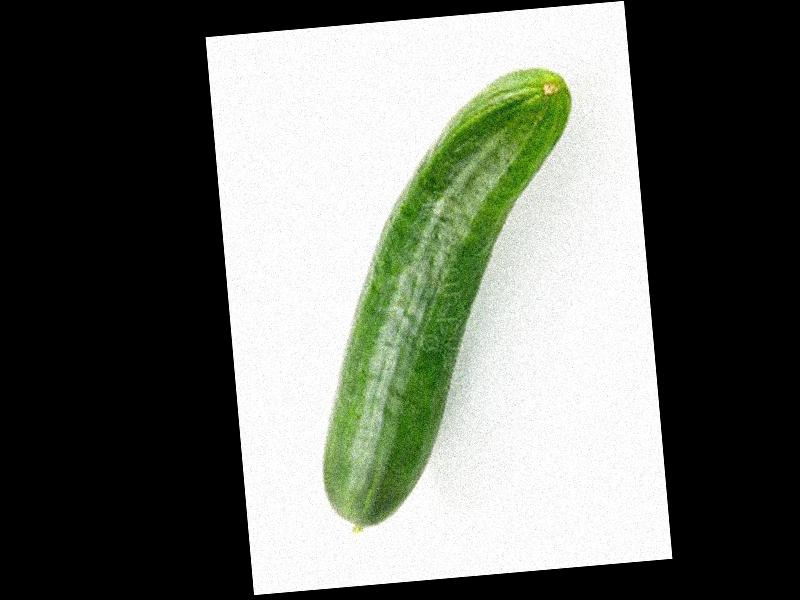Cucumber: (290, 65, 606, 529)
